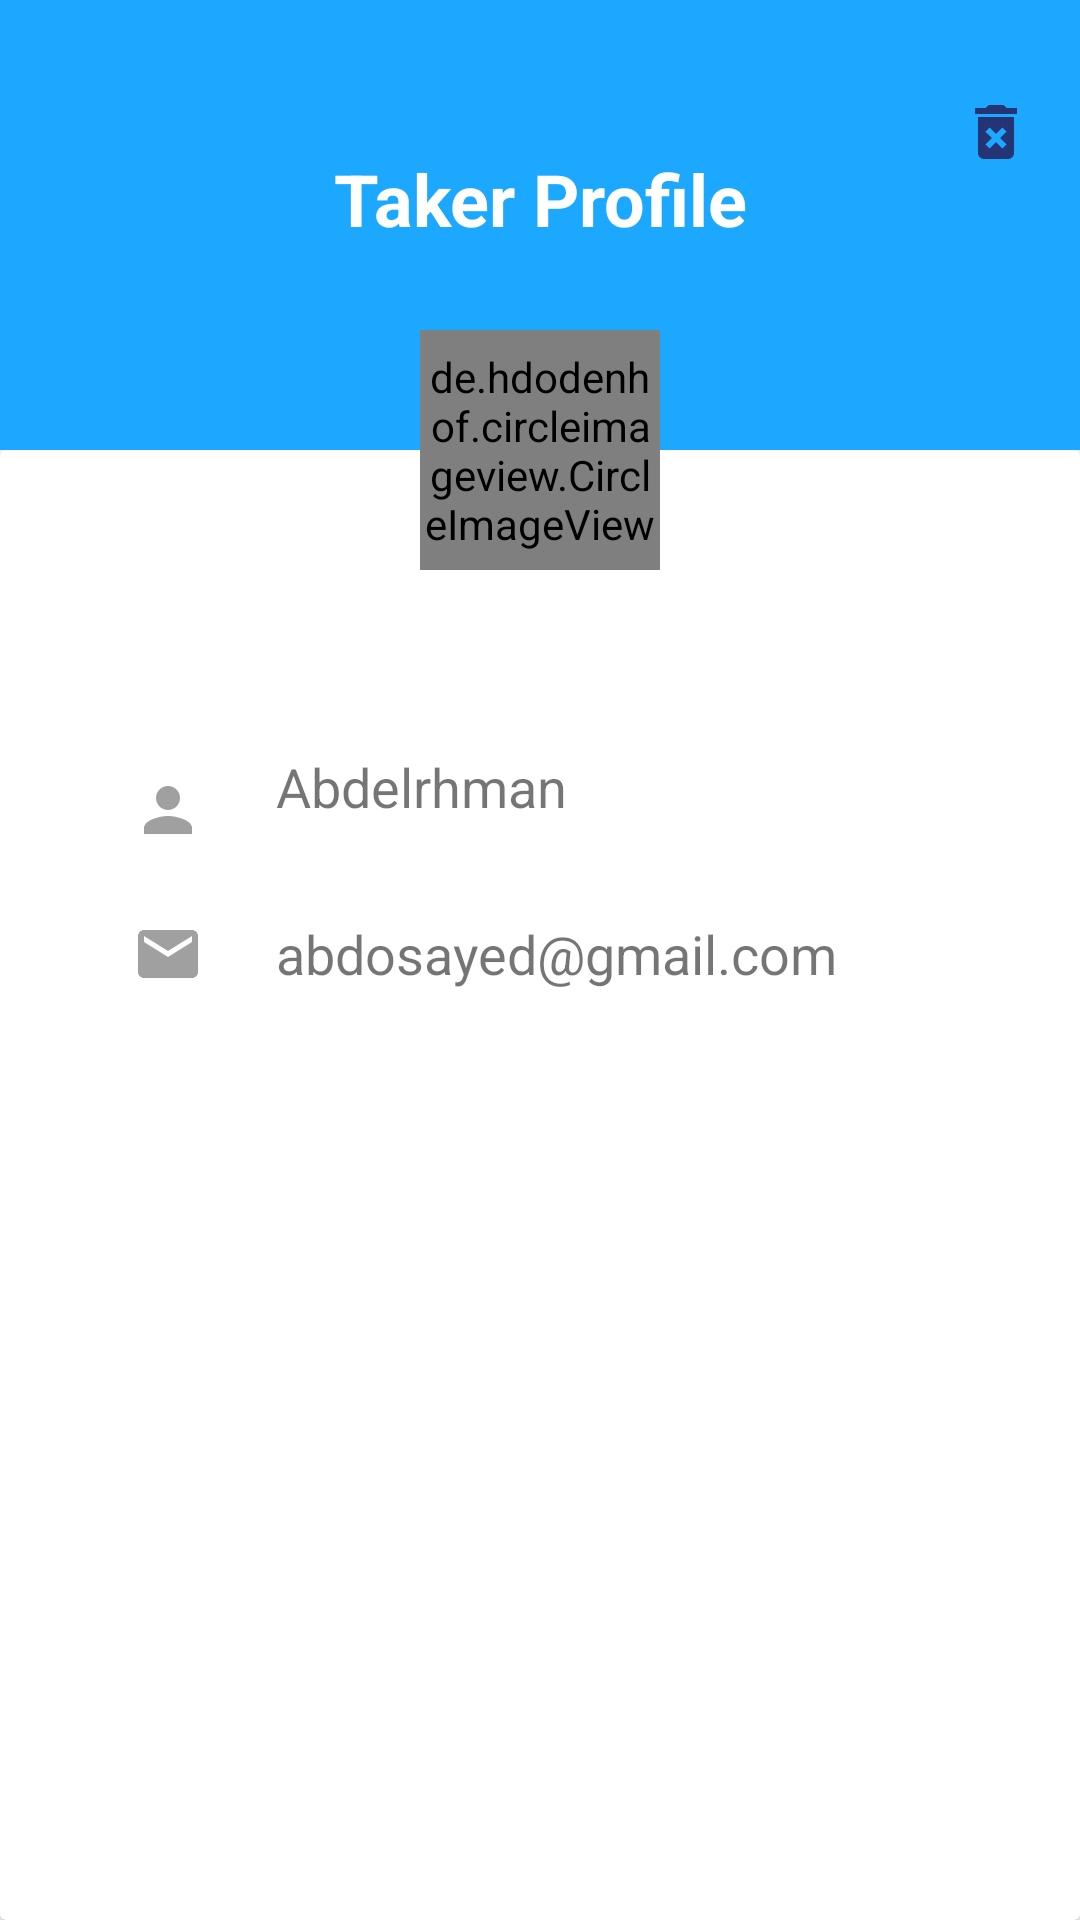

Point at icon controls on the screen. Image size 1080*1920, points as (x=x, y=y).
delete forever: (x=996, y=132)
email: (x=168, y=954)
person: (x=168, y=810)
